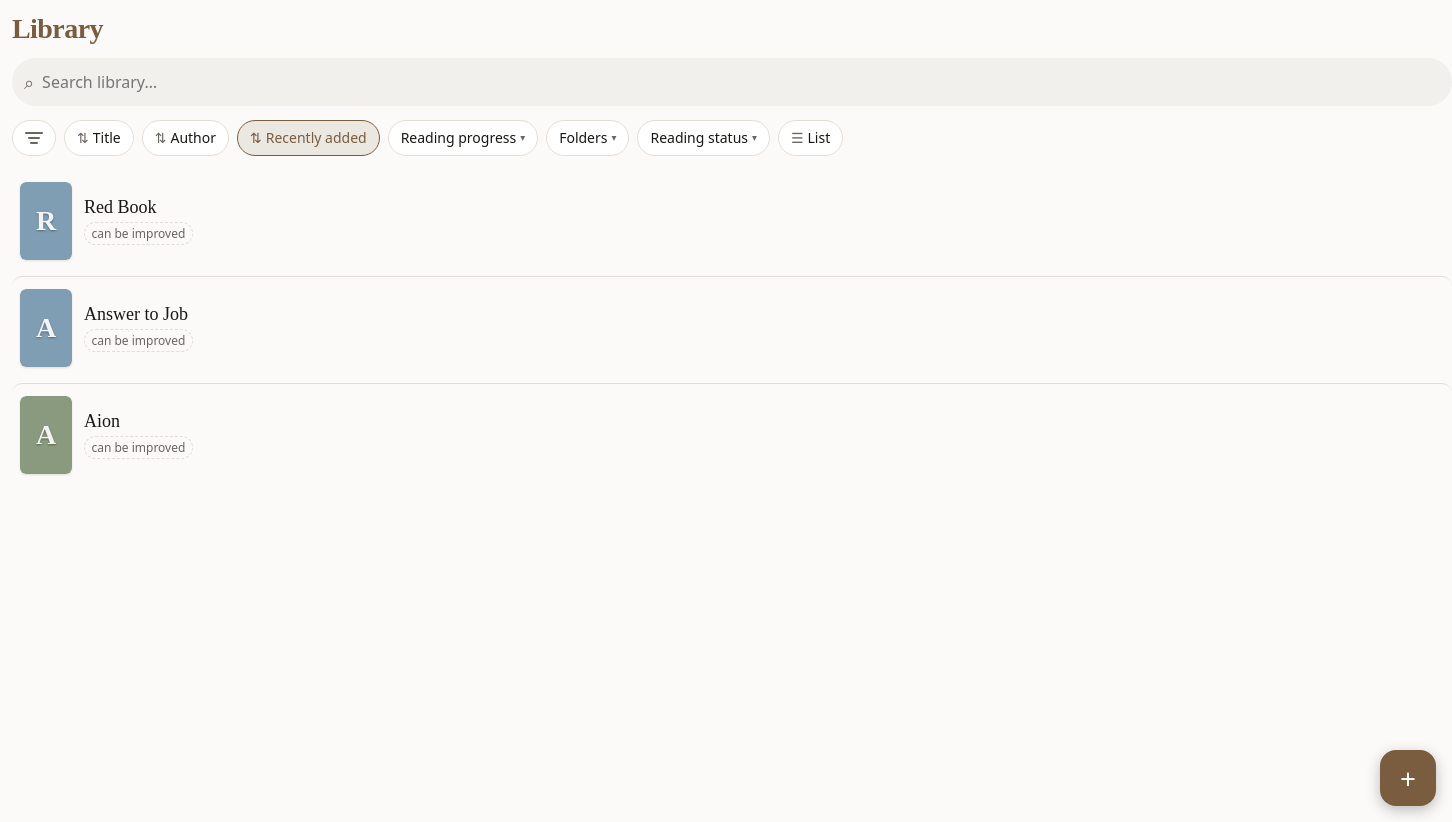
Test: the filter controls under the search bar › sorts on the first tap, and reverses on the second
Expected: the text "Aion" is shown, left=84, top=411, right=120, bottom=431
Click the button "⇅ Title": (99, 138) left=64, top=120, right=134, bottom=156
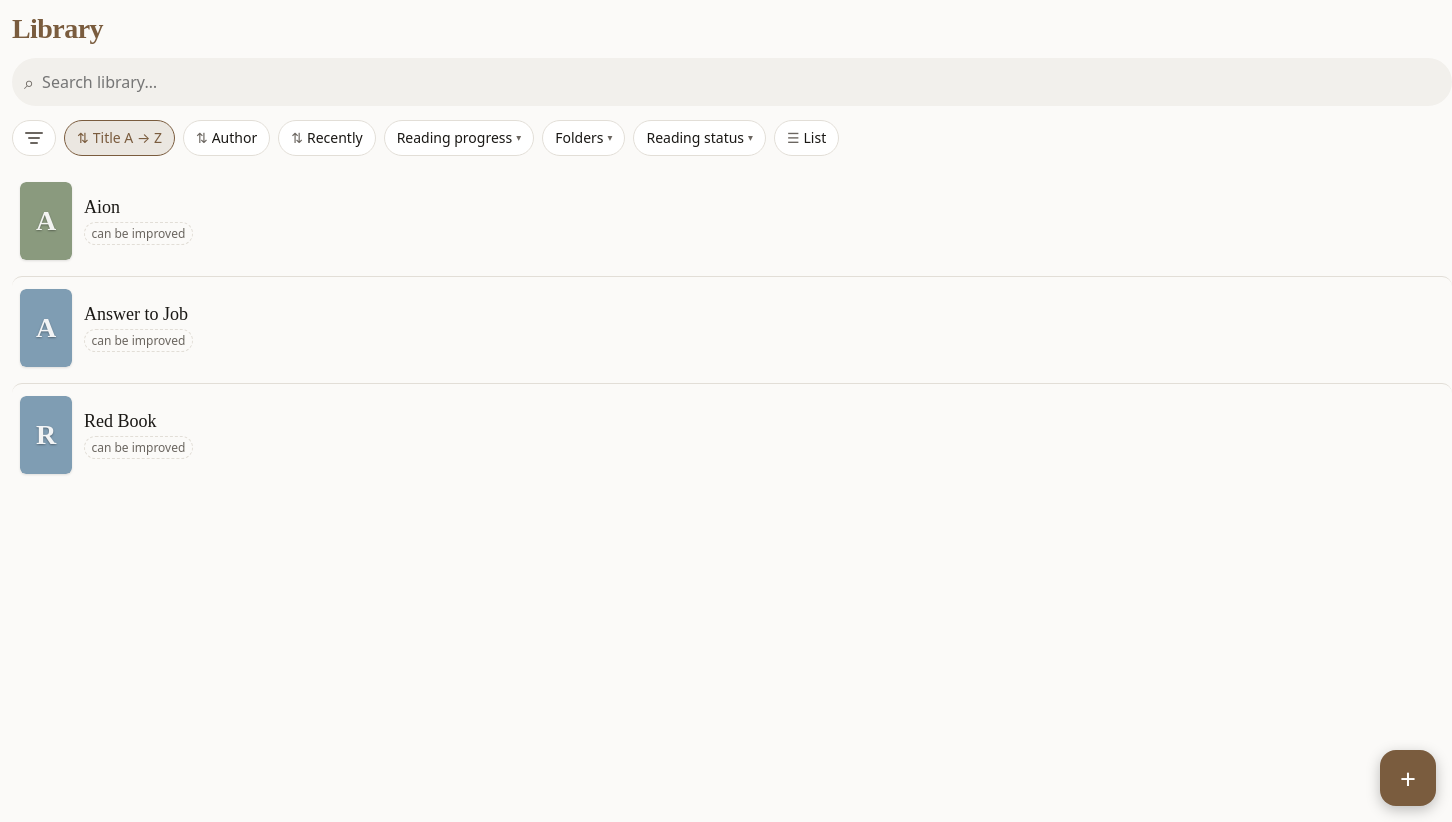
Expected: the link "A Aion can be improved" is shown, left=20, top=182, right=193, bottom=260
Result: the button "⇅ Title A → Z" is shown
Click the button "⇅ Title A → Z": (119, 138) left=64, top=120, right=175, bottom=156
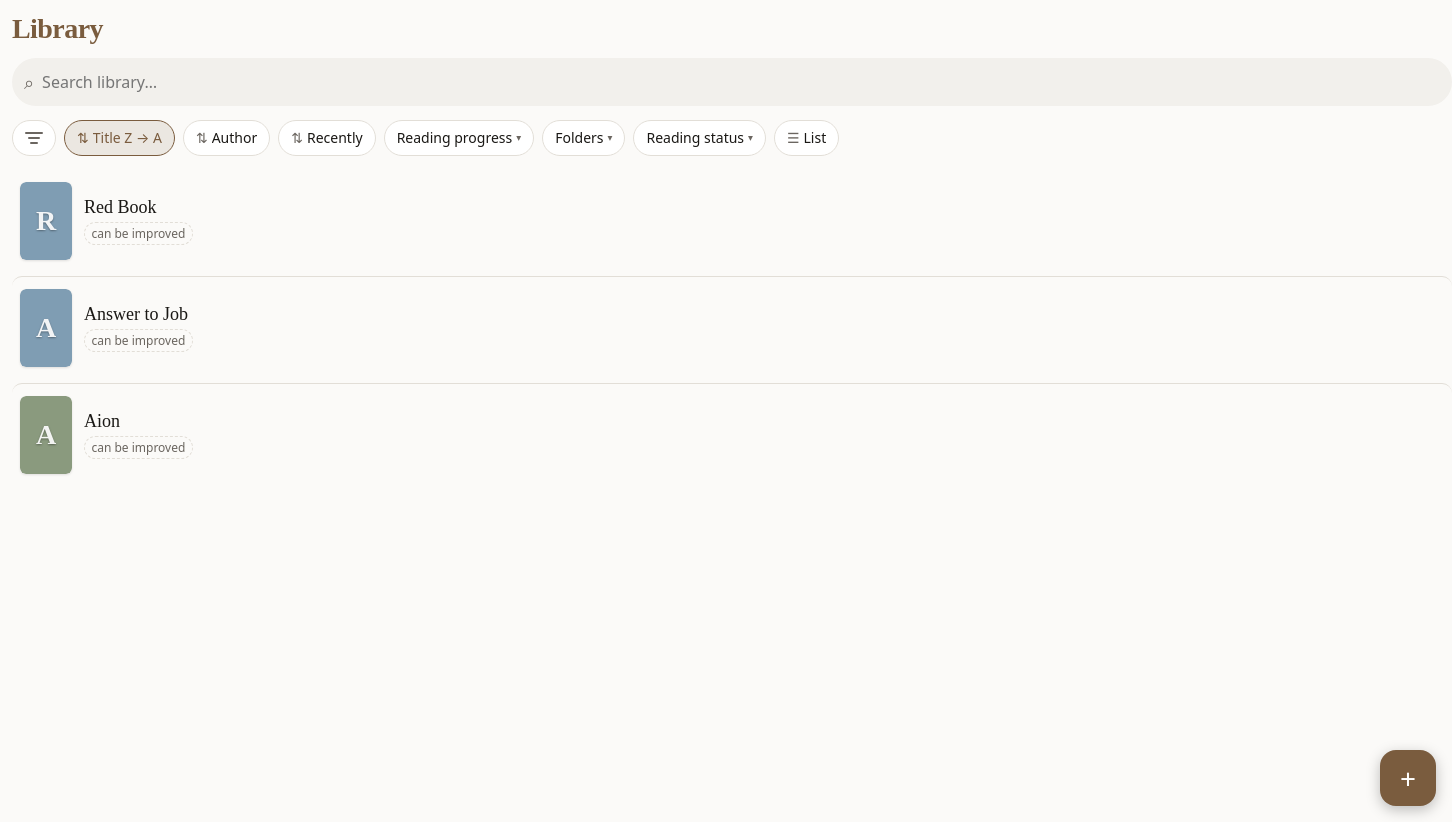
Expected: the link "R Red Book can be improved" is shown, left=20, top=182, right=193, bottom=260
Result: the button "⇅ Title Z → A" is shown at left=64, top=120, right=175, bottom=156
